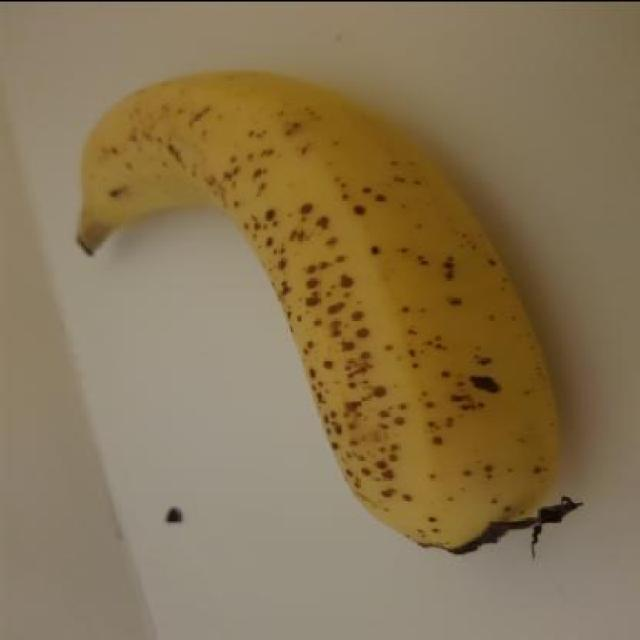Banana: (68, 65, 577, 558)
